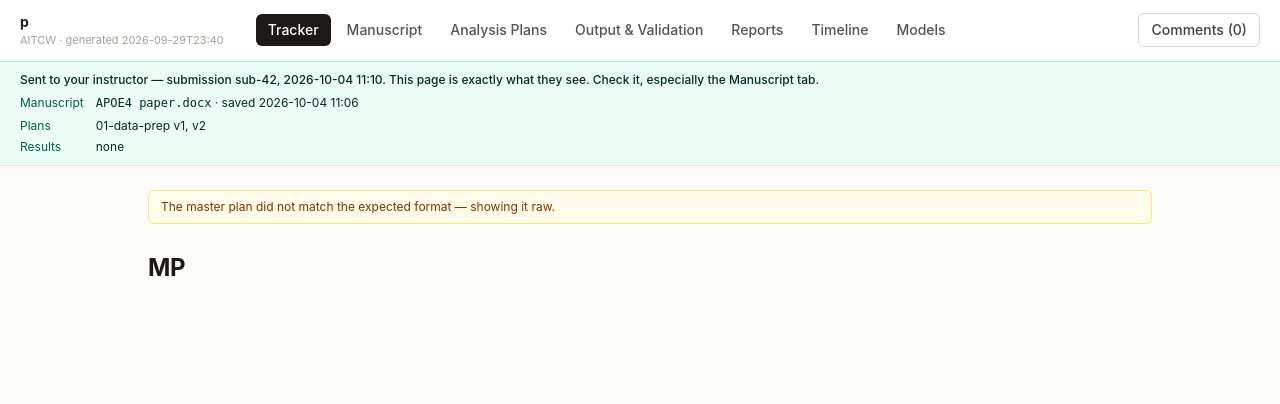
Test case: submitted copy (/ait:submit receipt) › shows the manuscript's file and saved time above the text
The width and height of the screenshot is (1280, 404).
Click the button "Manuscript" at point(384, 30), box [335,14,434,46]
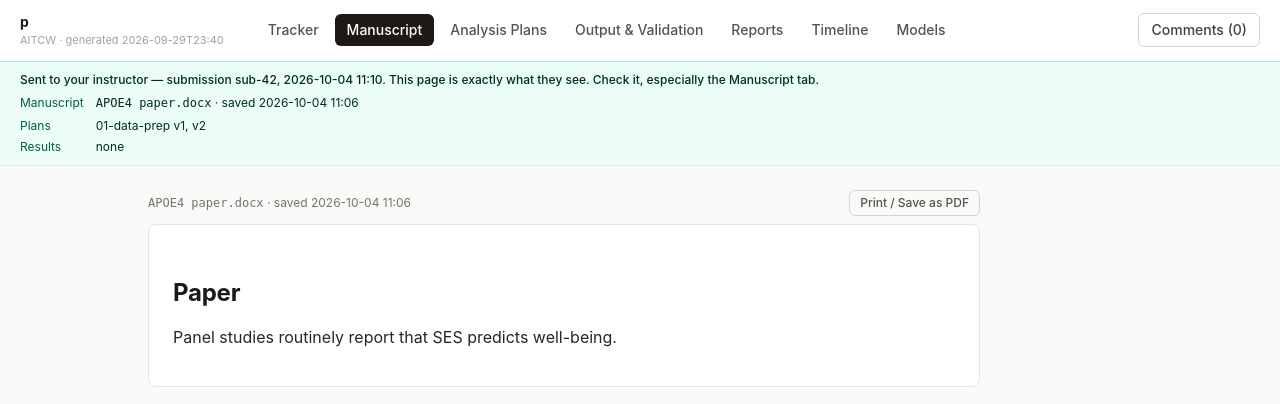
Result: the element with test id "manuscript-source" shows "APOE4 paper.docx" at [148,196,264,210]
Result: the element with test id "manuscript-source" shows "saved" at [264,194,411,210]
